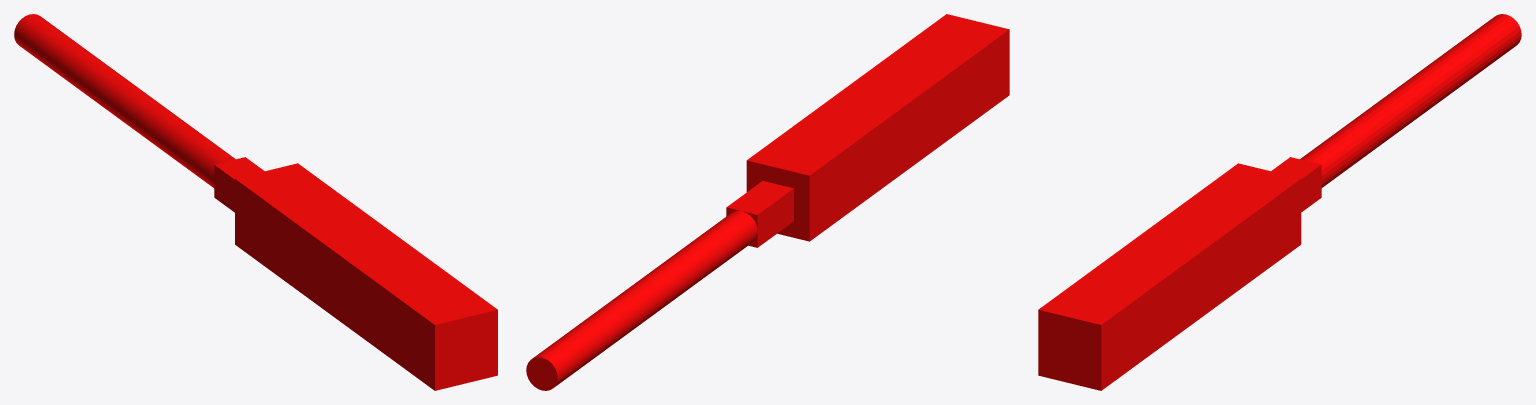
Rendered from stickRound.obj.
3 views of the same model, side by side, from view 1: azimuth 30°, elevation 25°; view 2: azimuth 150°, elevation 25°; view 3: azimuth 330°, elevation 25° (orthographic).
Visible parts, largest first — view 1: Mesh1 Model; view 2: Mesh1 Model; view 3: Mesh1 Model.
Part boxes in pixels (<box>): Mesh1 Model: <box>14,14,497,390</box>; Mesh1 Model: <box>526,14,1009,390</box>; Mesh1 Model: <box>1038,14,1521,390</box>.
Bounding box in the file's own units: 0.02 × 0.02 × 0.24.
